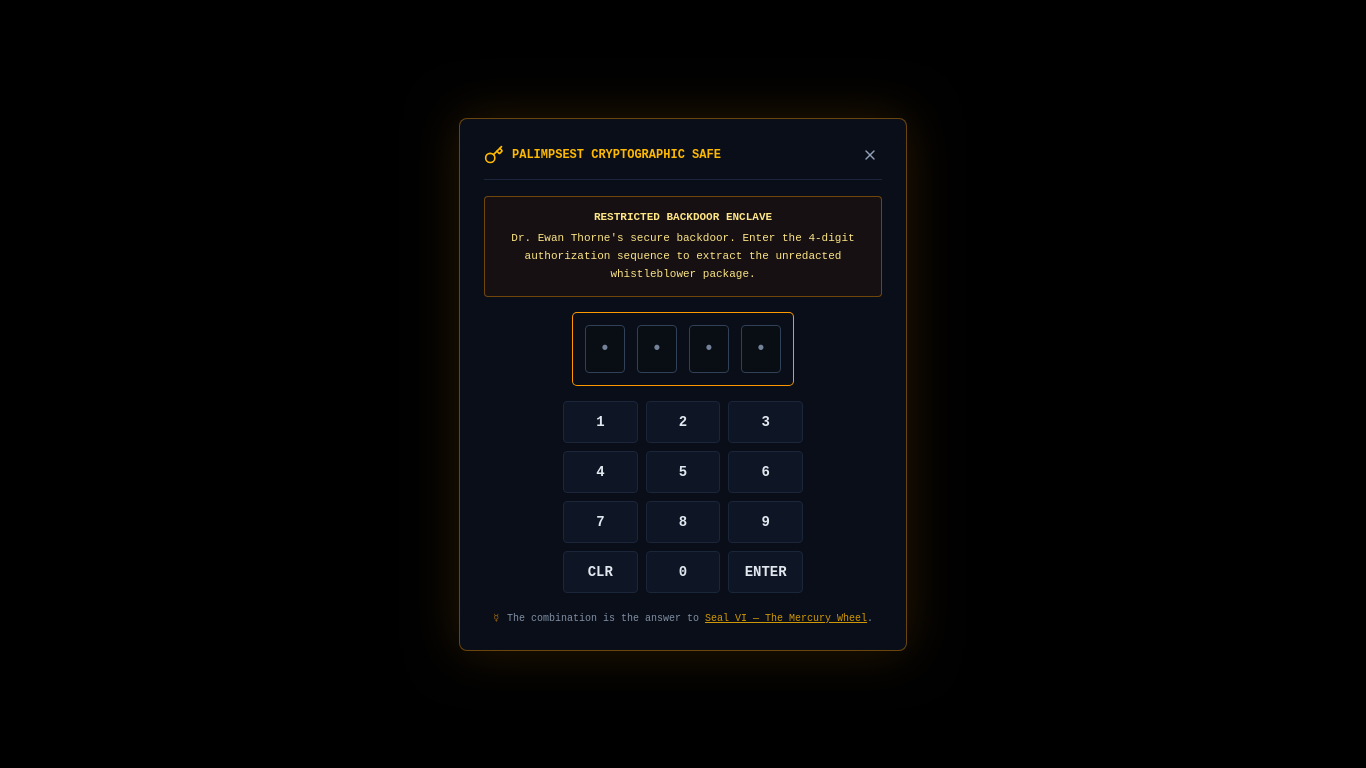
Test case: Whistleblower safe (Seal VI) › opens after Seal V, grants Level 5 and the dump
The image size is (1366, 768).
Click the button "1": (600, 422) x1=563 y1=401 x2=638 y2=443
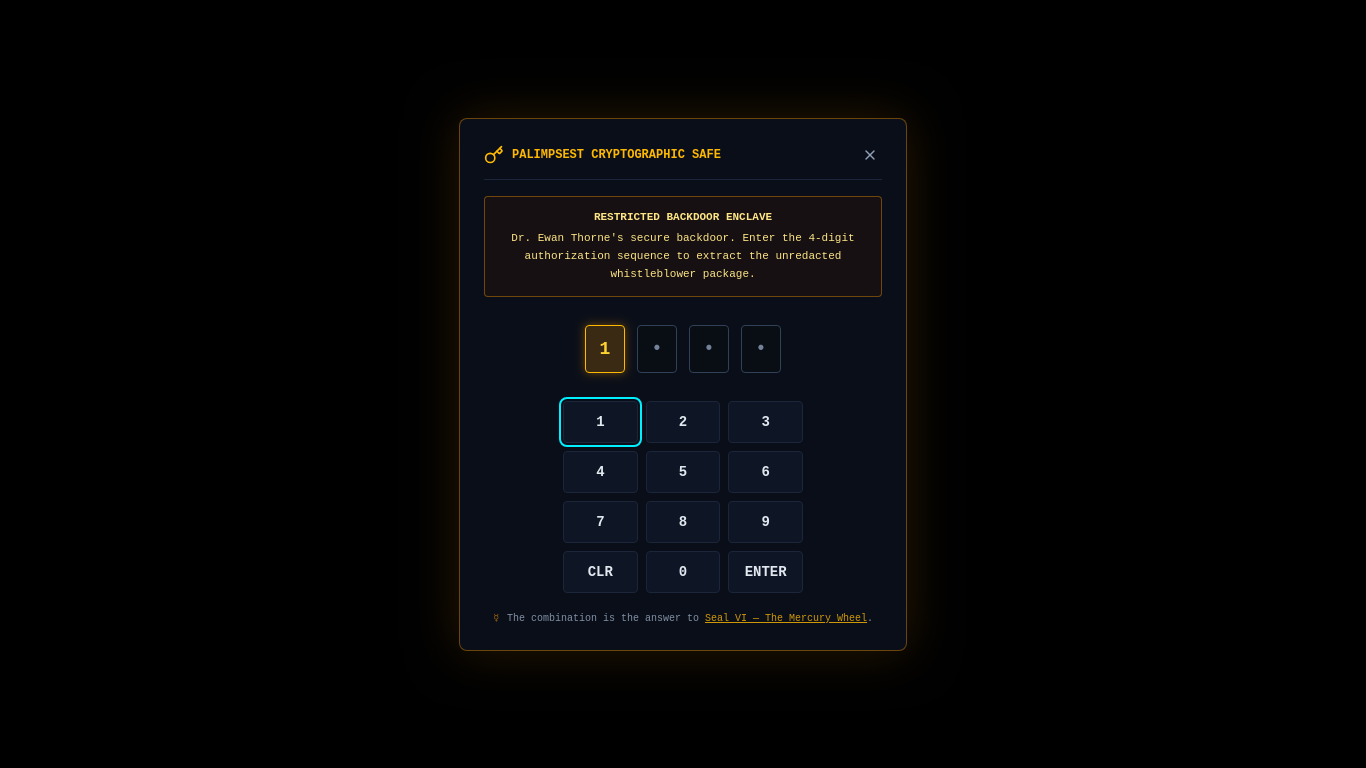
Click the button "8": (683, 522) x1=646 y1=501 x2=720 y2=543
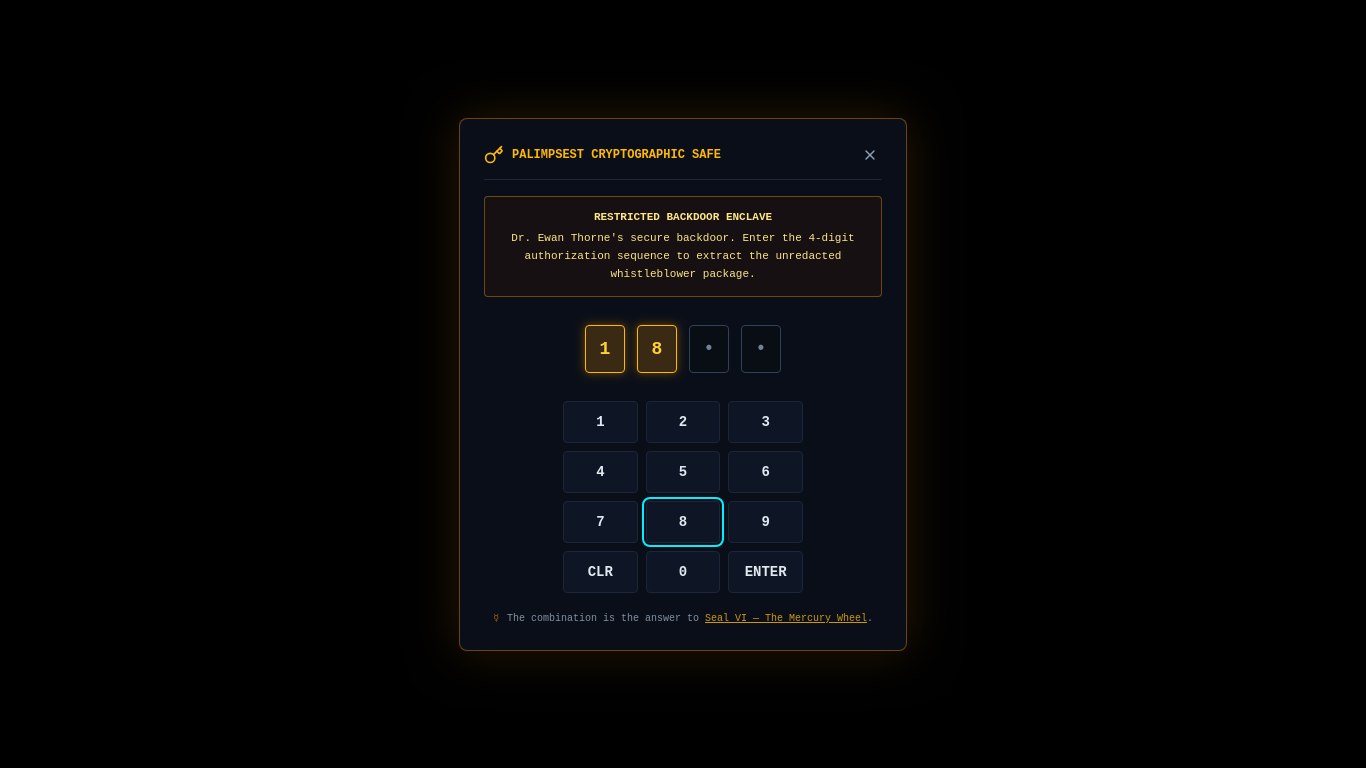
Click the button "0": (683, 572) x1=646 y1=551 x2=720 y2=593
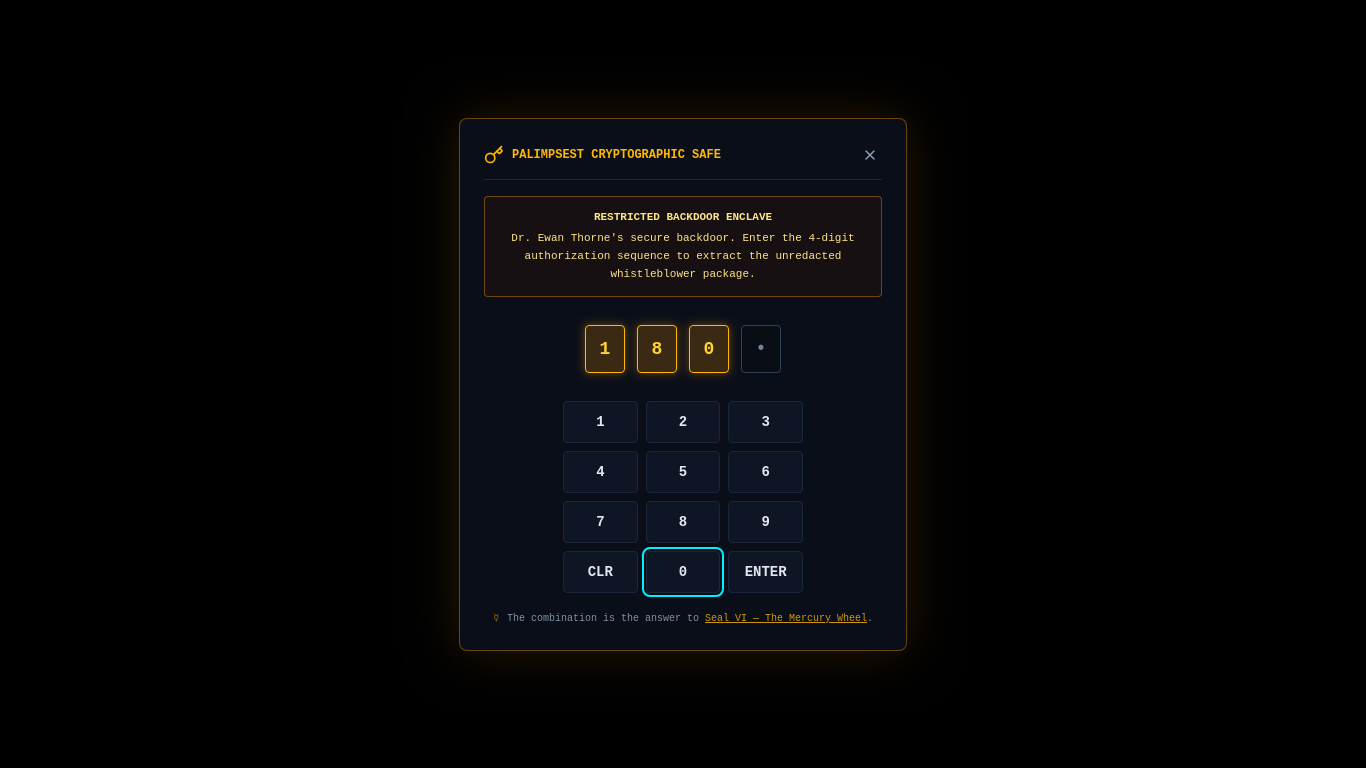
Click the button "0": (683, 572) x1=646 y1=551 x2=720 y2=593
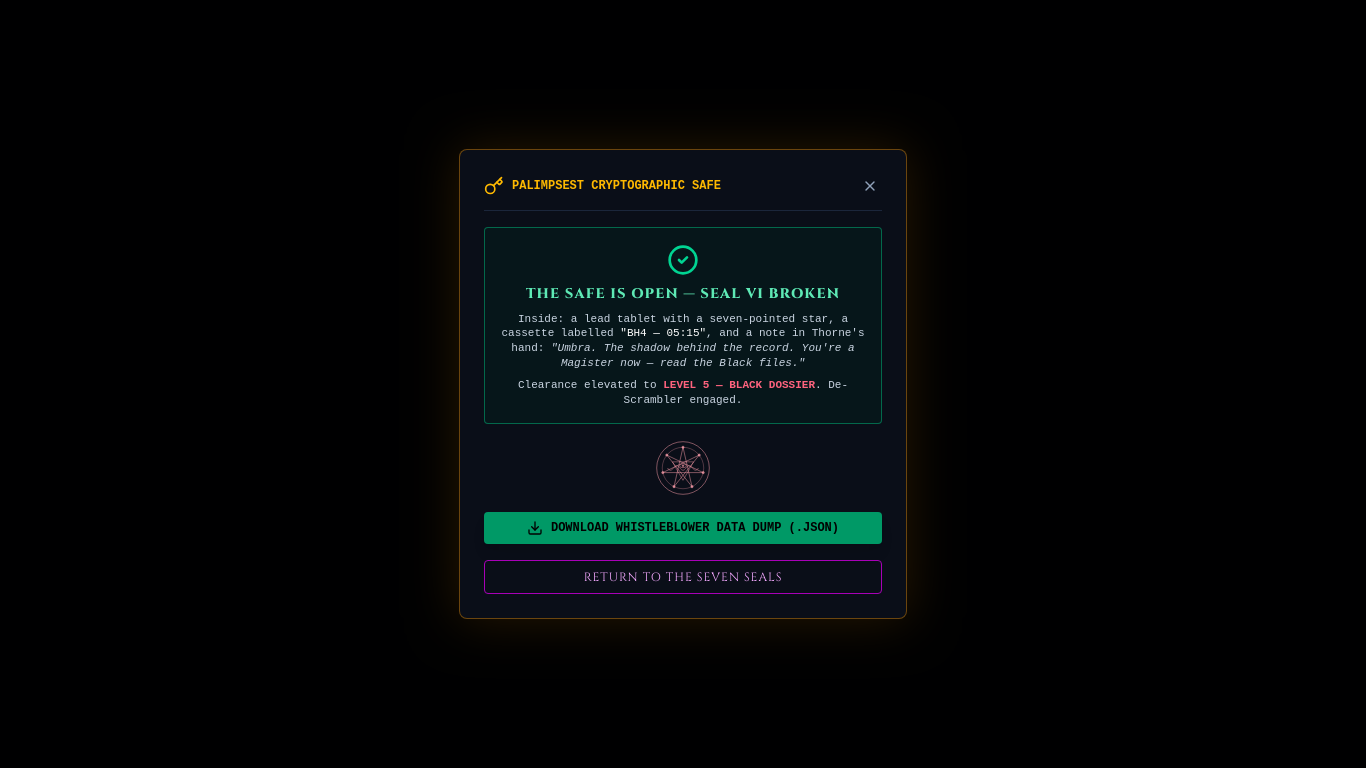
Expected: the button "DOWNLOAD WHISTLEBLOWER DATA DUMP (.JSON)" is shown, x1=484 y1=512 x2=882 y2=544
